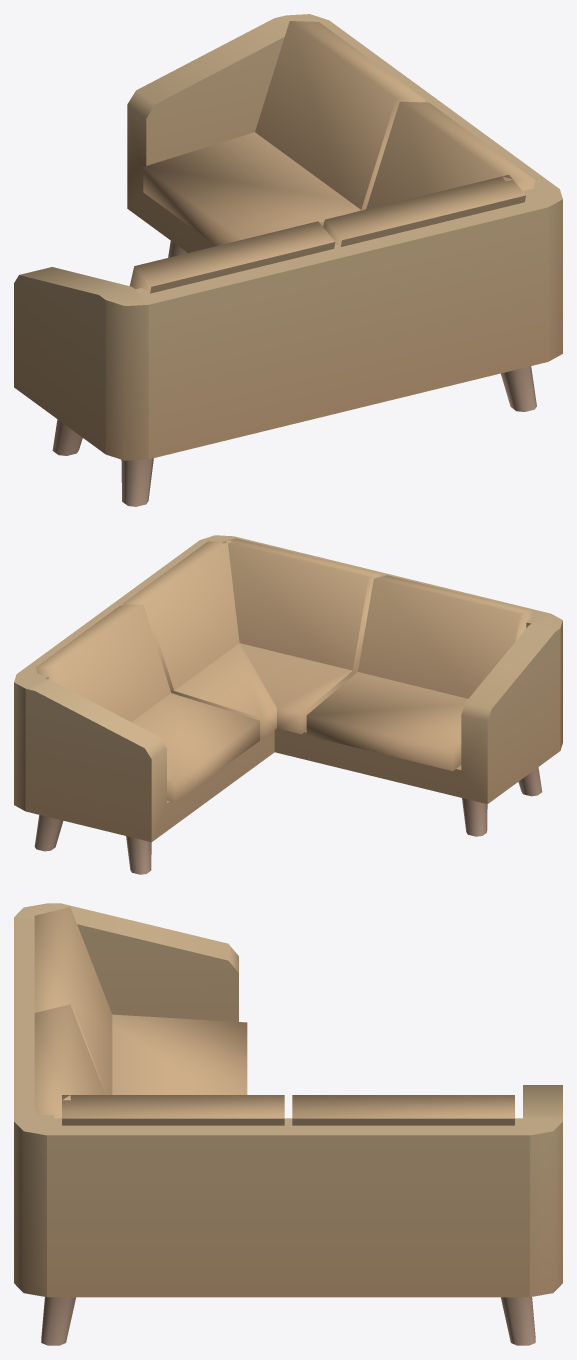
Rendered from vegas-sofa-corner.glb.
3 renders of one model, top to bottom at view 1: azimuth 30°, elevation 25°; view 2: azimuth 150°, elevation 25°; view 3: azimuth 270°, elevation 25°, orthographic. The views are drawn at different scales.
Parts seen in each view (by area): view 1: vegas-sofa-corner; view 2: vegas-sofa-corner; view 3: vegas-sofa-corner.
Part boxes in pixels (x1,y1,x2,y2): vegas-sofa-corner: (14,14,562,506); vegas-sofa-corner: (14,535,562,874); vegas-sofa-corner: (14,903,562,1345).
Size of the model in its own units: 1.4 by 0.6688 by 1.4.
